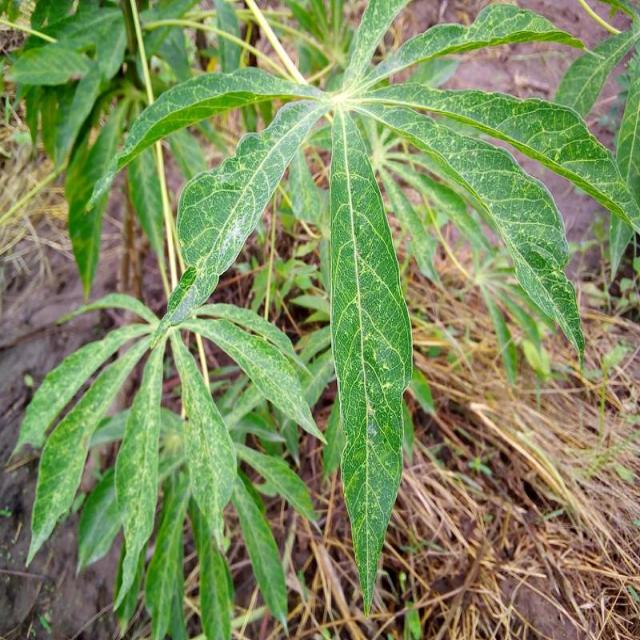cassava leaf: (327, 104, 414, 616)
